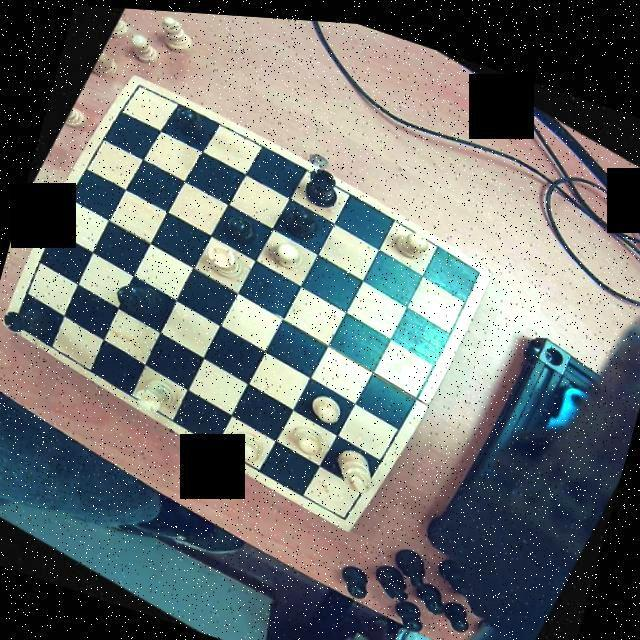chess-table-corners: (458, 250, 492, 284), (329, 494, 361, 528), (0, 309, 34, 338), (121, 70, 151, 100)
